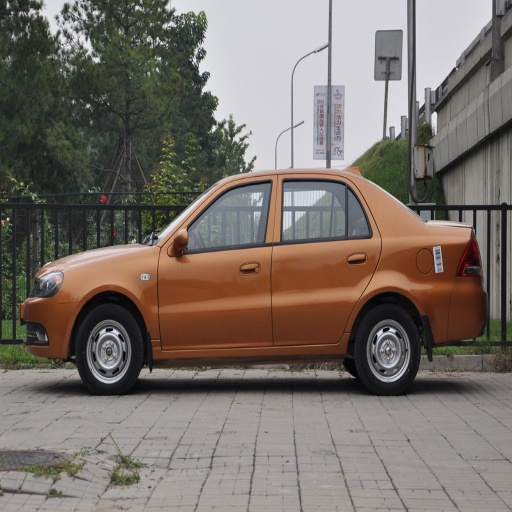back_left_door: (270, 175, 378, 343)
front_left_door: (160, 176, 277, 348)
